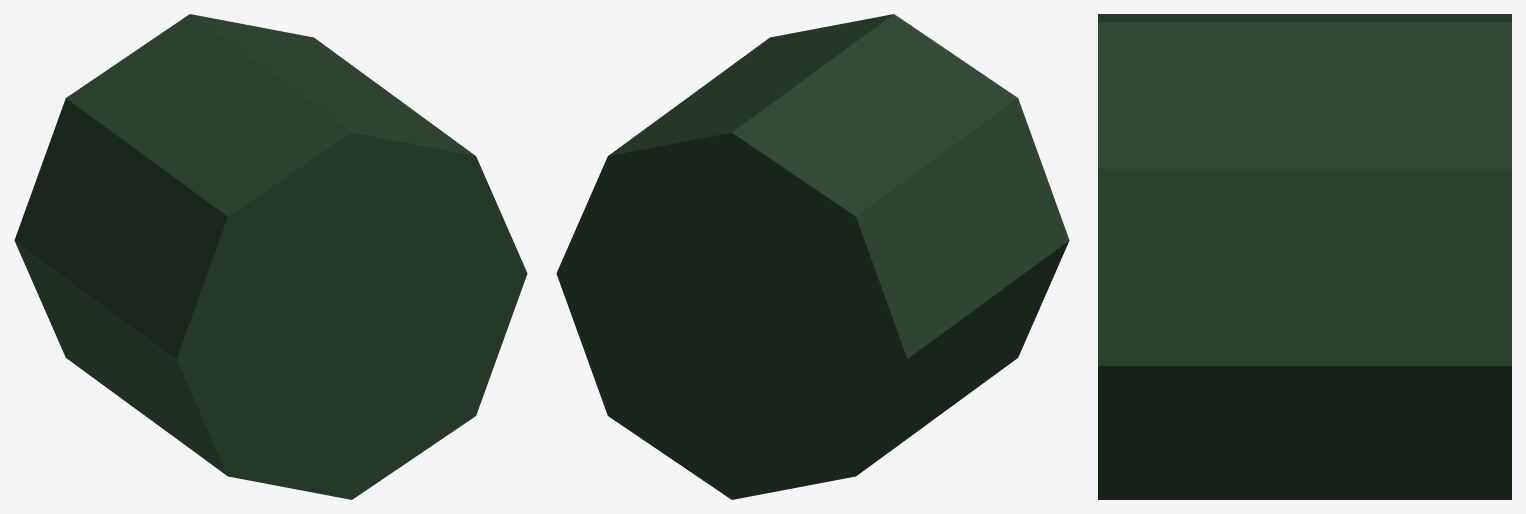
The model's file is SM_Prop_farm_bale_2_LOD1.glb.
The picture shows the model from 3 angles, left to right: view 1: azimuth 30°, elevation 25°; view 2: azimuth 150°, elevation 25°; view 3: azimuth 270°, elevation 25°; orthographic projection. The views are drawn at different scales.
Visible parts, largest first — view 1: SM_Prop_farm_bale_2_LOD1; view 2: SM_Prop_farm_bale_2_LOD1; view 3: SM_Prop_farm_bale_2_LOD1.
Boxes of the visible parts, left/top/right/bottom form: SM_Prop_farm_bale_2_LOD1: left=14, top=14, right=527, bottom=499; SM_Prop_farm_bale_2_LOD1: left=556, top=14, right=1069, bottom=499; SM_Prop_farm_bale_2_LOD1: left=1098, top=14, right=1511, bottom=499.
Size of the model in its own units: 1.5 by 1.5 by 1.2.
